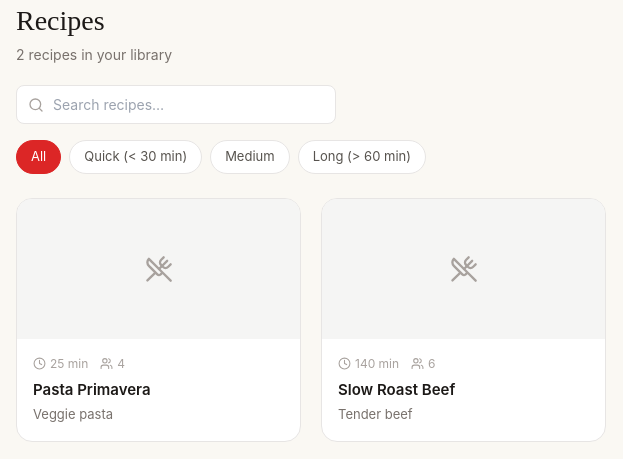
it: filters by search
Expected: the heading "Pasta Primavera" is shown, [33, 380, 150, 398]
Type "beef" into the field with placeholder "Search recipes…" at coordinates (176, 104), box [16, 85, 336, 124]
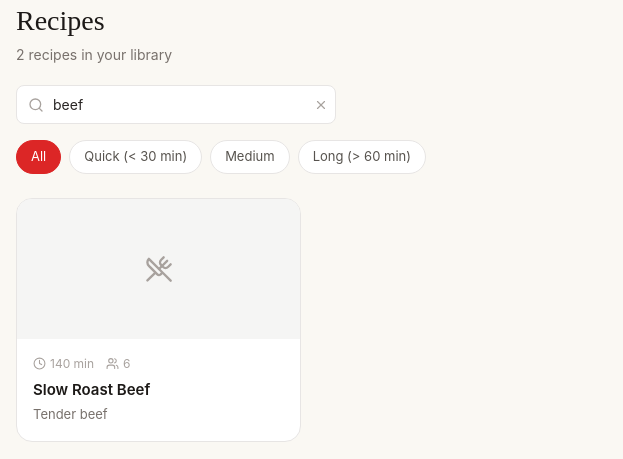
Expected: the heading "Slow Roast Beef" is shown, [33, 380, 150, 398]
Expected: the link "Pasta Primavera" is gone
